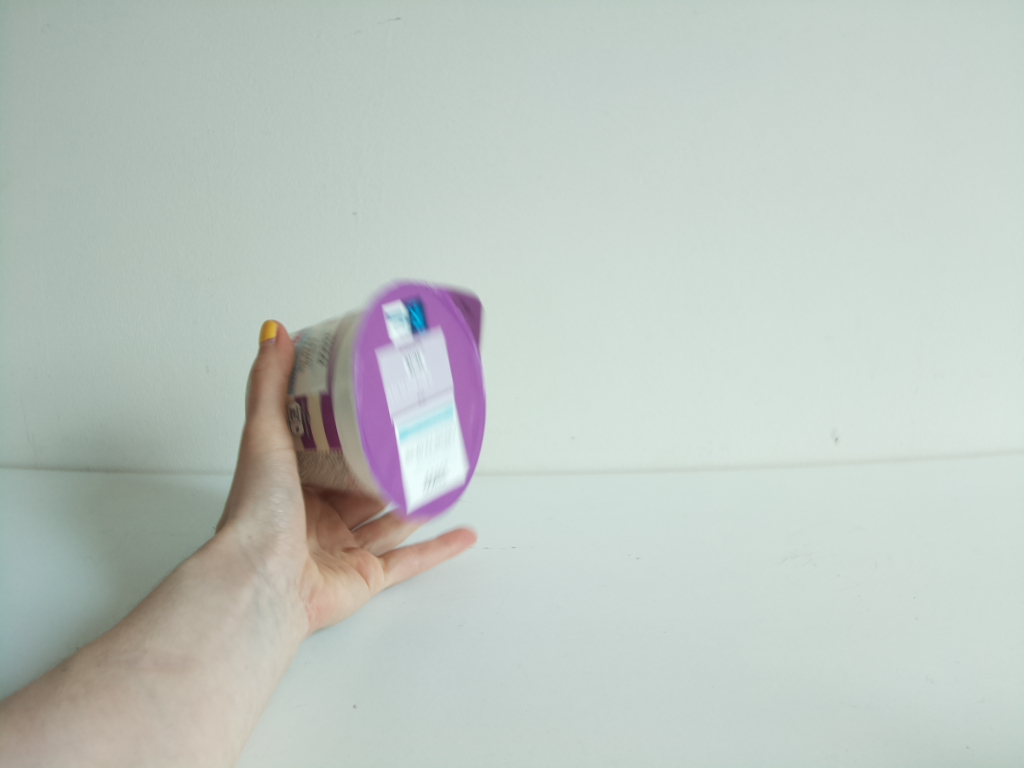cream: (256, 277, 494, 521)
